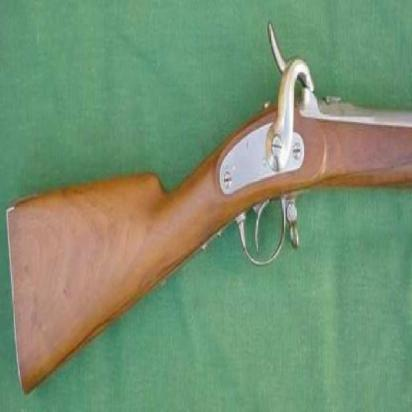Gun: (7, 22, 412, 394)
